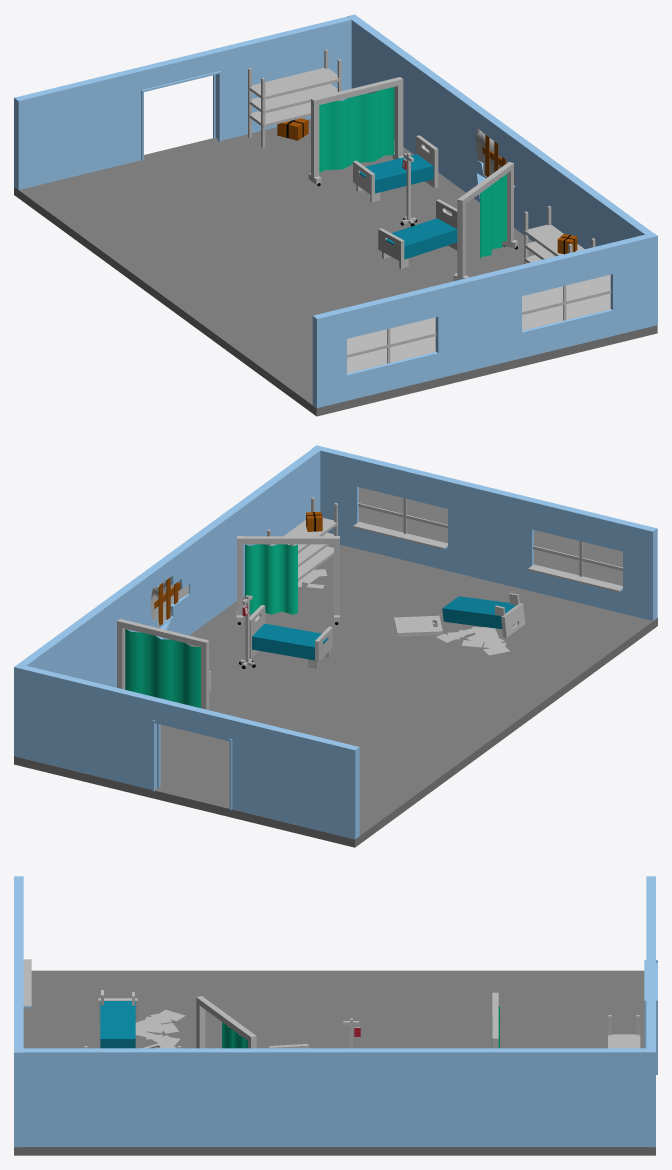
Rendered from new_hospital_room.fbx.
The picture shows the model from 3 angles, top to bottom: view 1: azimuth 30°, elevation 25°; view 2: azimuth 150°, elevation 25°; view 3: azimuth 270°, elevation 25°; orthographic projection. The views are drawn at different scales.
Parts seen in each view (by area): view 1: Room_Floor, windows_wall_1, doored_Wall, Cracked_Wall, Glass, Plane_3_2, Plane_2_2, Cube_12, Cube_13, Cube_4, Cube_3_2, Cube_2_2 (+7 smaller); view 2: Room_Floor, doored_Wall, windows_wall_1, Cracked_Wall, Glass, Plane_3_2, Plane_2_2, Cube_12, Cube_5, Plane_copies_1, Boole_1, Cube_2_3 (+3 smaller); view 3: Cracked_Wall, Room_Floor, windows_wall_1, doored_Wall, Cube_5, Plane_copies_1, Cube_2_3, Cube_4, Cube_6, Plane_2_2.
Part boxes in pixels (x1,y1,x2,y2): Room_Floor: (14, 119, 657, 416); windows_wall_1: (312, 232, 657, 408); doored_Wall: (14, 16, 351, 189); Cracked_Wall: (347, 14, 657, 326); Glass: (347, 274, 610, 372); Plane_3_2: (319, 87, 394, 172); Plane_2_2: (480, 174, 506, 259); Cube_12: (385, 218, 457, 259); Cube_13: (359, 154, 433, 193); Cube_4: (249, 68, 341, 99); Cube_3_2: (249, 83, 337, 113); Cube_2_2: (249, 102, 310, 127); Room_Floor: (14, 544, 657, 847); doored_Wall: (22, 665, 359, 839); windows_wall_1: (312, 445, 657, 620); Cracked_Wall: (14, 445, 324, 757); Glass: (359, 487, 622, 585); Plane_3_2: (125, 629, 200, 708); Plane_2_2: (245, 544, 297, 614); Cube_12: (252, 623, 327, 660); Cube_5: (442, 596, 516, 629); Plane_copies_1: (436, 627, 509, 655); Boole_1: (394, 615, 442, 636); Cube_2_3: (241, 536, 335, 544); Cracked_Wall: (14, 1048, 655, 1146); Room_Floor: (14, 970, 655, 1155); windows_wall_1: (14, 876, 31, 1147); doored_Wall: (644, 876, 657, 1147); Cube_5: (100, 1001, 135, 1048); Plane_copies_1: (135, 1009, 185, 1045); Cube_2_3: (199, 998, 252, 1040); Cube_4: (608, 1034, 640, 1048); Cube_6: (196, 996, 205, 1048); Plane_2_2: (222, 1022, 247, 1048).
Bounding box in the file's own units: 1302 × 355 × 2006.
